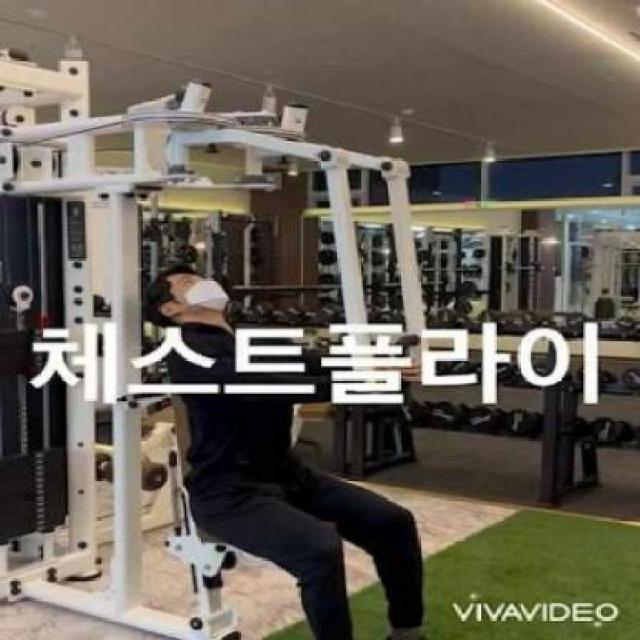chest fly machine: (0, 43, 469, 640)
